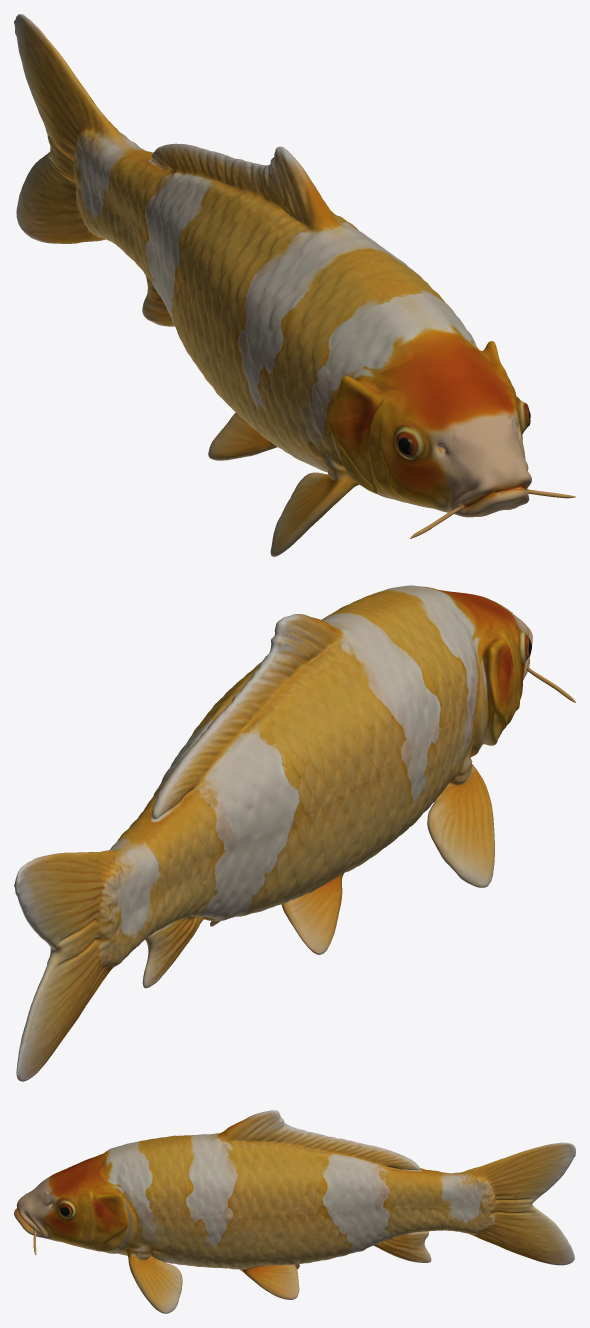
Rendered from goldfin-koi.glb.
The picture shows the model from 3 angles, top to bottom: view 1: azimuth 30°, elevation 25°; view 2: azimuth 150°, elevation 25°; view 3: azimuth 270°, elevation 25°; orthographic projection. The views are drawn at different scales.
Visible parts, largest first — view 1: tripo_node_d47e4edb; view 2: tripo_node_d47e4edb; view 3: tripo_node_d47e4edb.
Boxes of the visible parts, x1,y1,x2,y2 form: tripo_node_d47e4edb: (14, 14, 575, 556); tripo_node_d47e4edb: (14, 585, 575, 1081); tripo_node_d47e4edb: (14, 1110, 575, 1313).
Size of the model in its own units: 24.39 by 33.94 by 97.73.
1 material, 1 textured.
